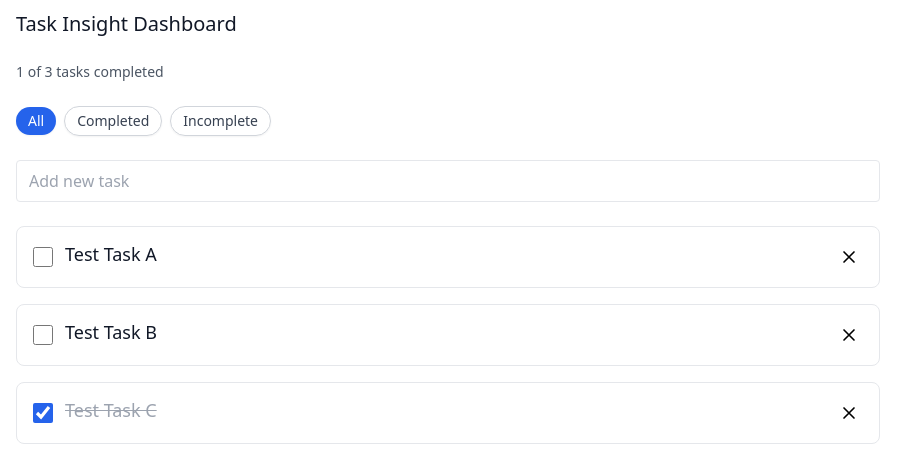
<App /> › task filtering › shows only incomplete tasks when the incomplete filter is selected
The width and height of the screenshot is (897, 461).
Click the radio button labelled "Incomplete" at (221, 121), box [170,106,271,136]
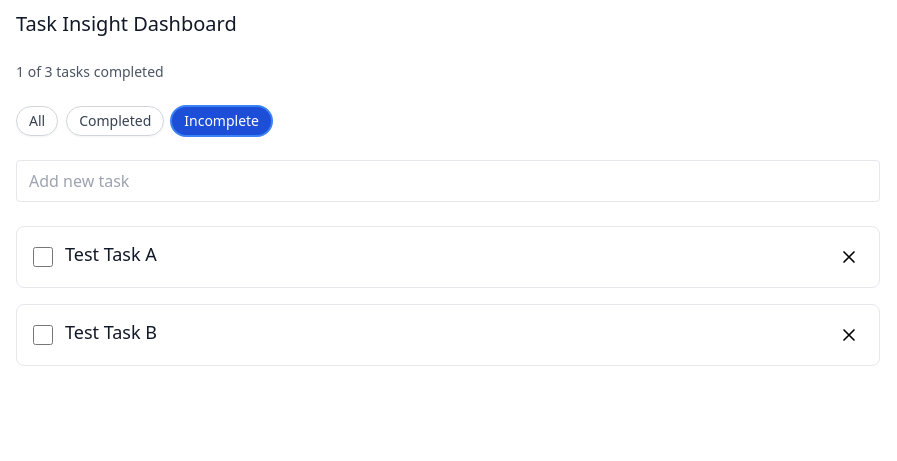
Expected: the heading "Test Task A" is shown, [65,242,157,266]
Expected: the heading "Test Task C" is gone
